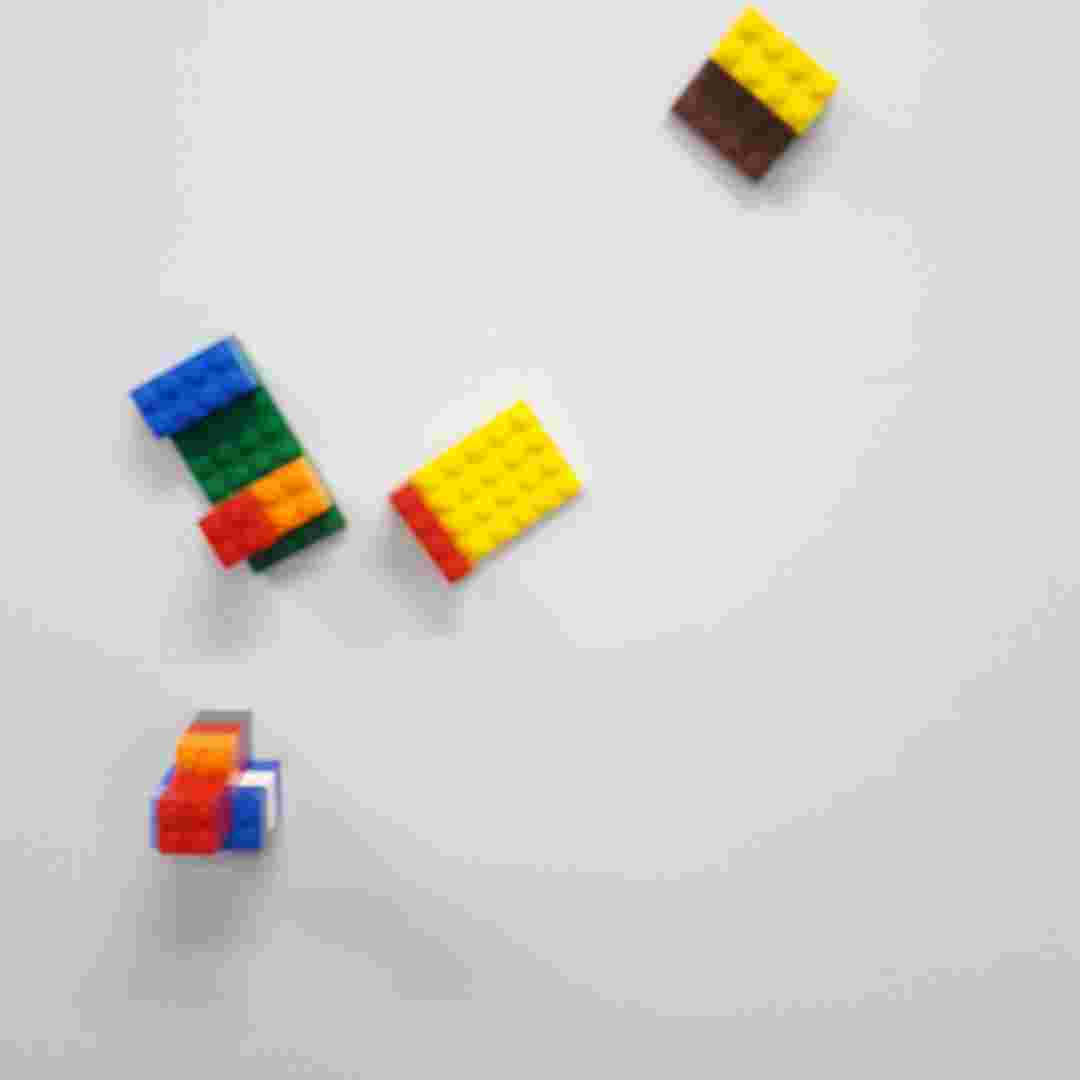LEGO: (133, 334, 351, 573), (386, 401, 589, 589), (661, 6, 845, 187), (146, 705, 290, 861)
